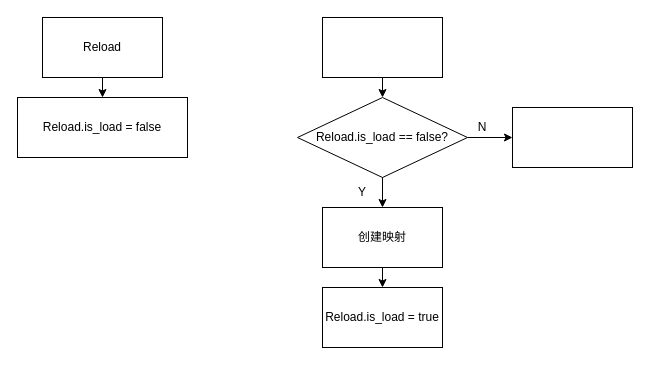
Image size: 650x365. Some labels were removed from this diagram. Here are the shapes that lost their labels. From the top down, the centre of each, then its label:
At (382,47): "InitClientHandler".
At (572,137): "直接return".
